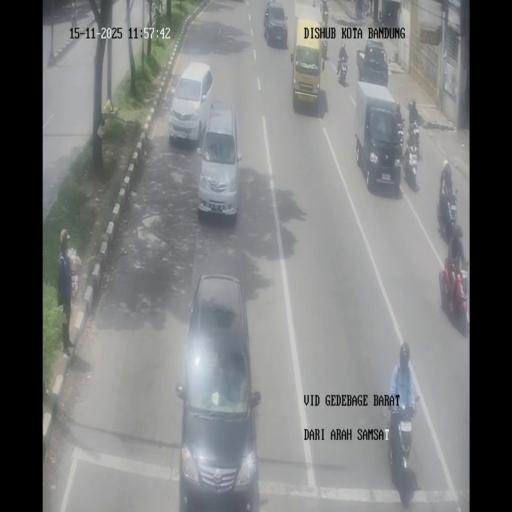car: (175, 273, 261, 507), (197, 102, 242, 220), (169, 62, 214, 148), (291, 16, 324, 112), (356, 40, 388, 86), (263, 1, 288, 47)
motorcycle: (386, 398, 419, 504), (439, 252, 469, 333), (437, 187, 459, 243), (407, 116, 421, 158), (396, 115, 404, 153), (337, 56, 346, 84), (70, 2, 78, 32), (321, 36, 329, 61), (321, 5, 329, 27), (363, 0, 369, 16), (378, 10, 384, 23)
truck: (354, 82, 402, 194)
